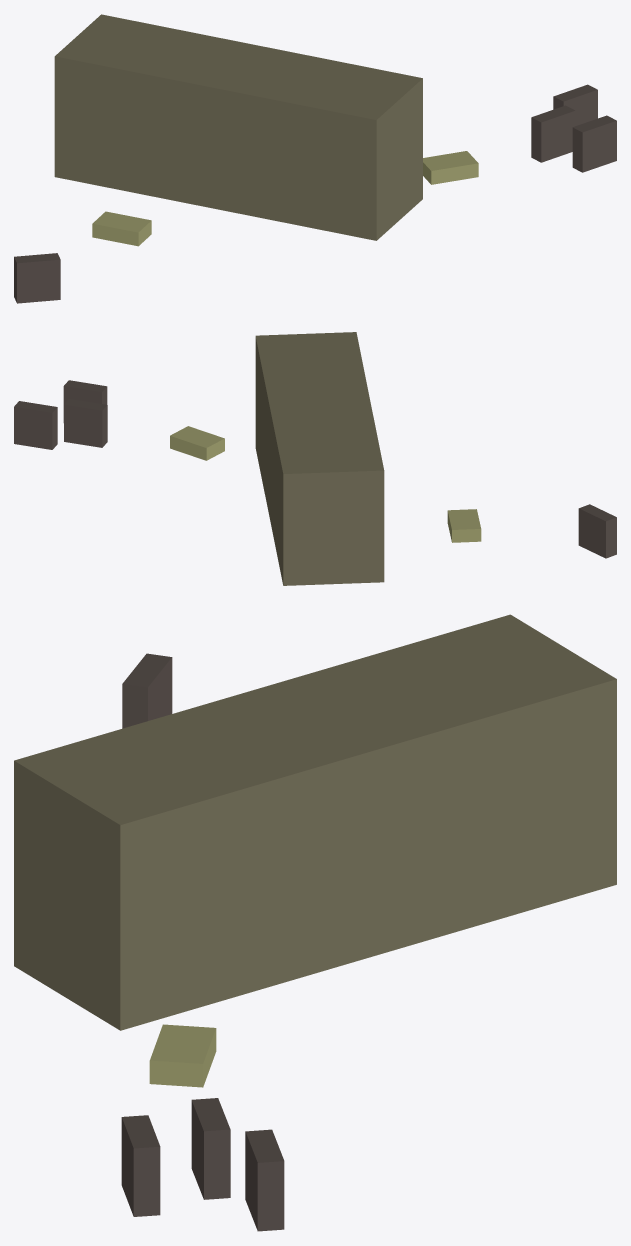
File: SM_BarricadaCivil_v3_Furgoneta_e3_Brecha_LOD0.fbx
3 renders of one model, top to bottom at view 1: azimuth 30°, elevation 25°; view 2: azimuth 150°, elevation 25°; view 3: azimuth 270°, elevation 25°, orthographic. The views are drawn at different scales.
Parts seen in each view (by area): view 1: SM_barricada_civil_v15_LOD0; view 2: SM_barricada_civil_v15_LOD0; view 3: SM_barricada_civil_v15_LOD0.
Part boxes in pixels (<box>): SM_barricada_civil_v15_LOD0: <box>14,14,616,303</box>; SM_barricada_civil_v15_LOD0: <box>14,332,616,585</box>; SM_barricada_civil_v15_LOD0: <box>14,614,616,1231</box>.
Bounding box in the file's own units: 11.16 × 2.32 × 5.58.
